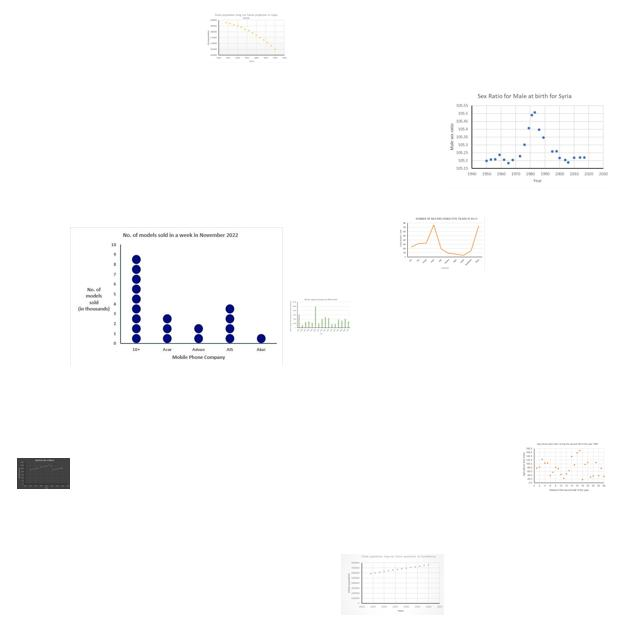Graph: (70, 227, 283, 366), (444, 89, 612, 189), (341, 554, 444, 615), (397, 215, 485, 272), (522, 442, 606, 493), (206, 13, 287, 63), (289, 298, 351, 335), (17, 458, 70, 489)
